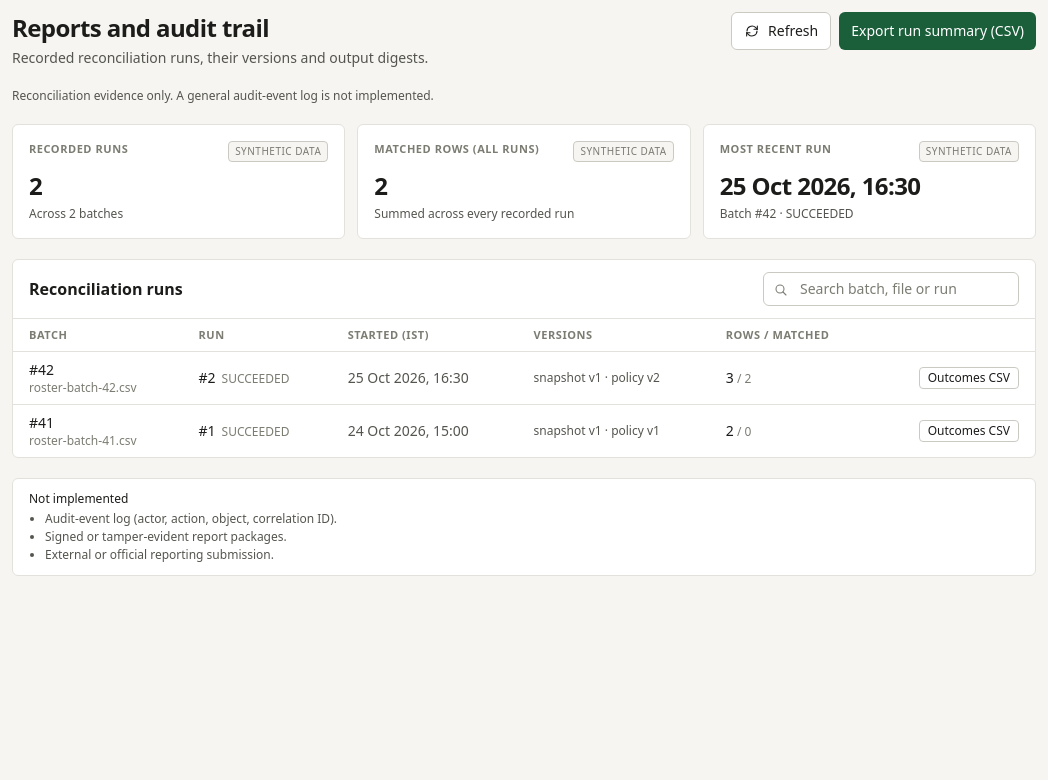
Scenario: ReportsPage › filters runs by search text
Check: the text "roster-batch-42.csv" is shown, box [29, 379, 137, 396]
Type "batch-41" into the search field named "search runs" at [891, 289], box [763, 272, 1019, 306]
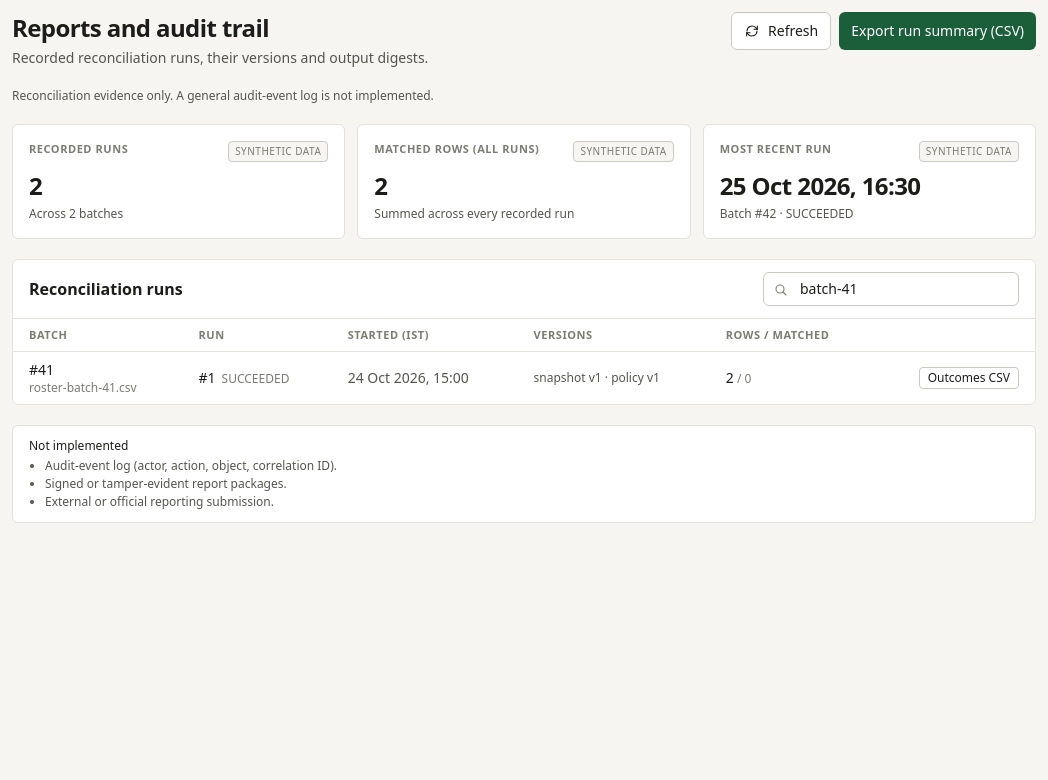
Check: the text "roster-batch-41.csv" is shown, box [29, 379, 137, 396]
Check: the text "roster-batch-42.csv" is gone
